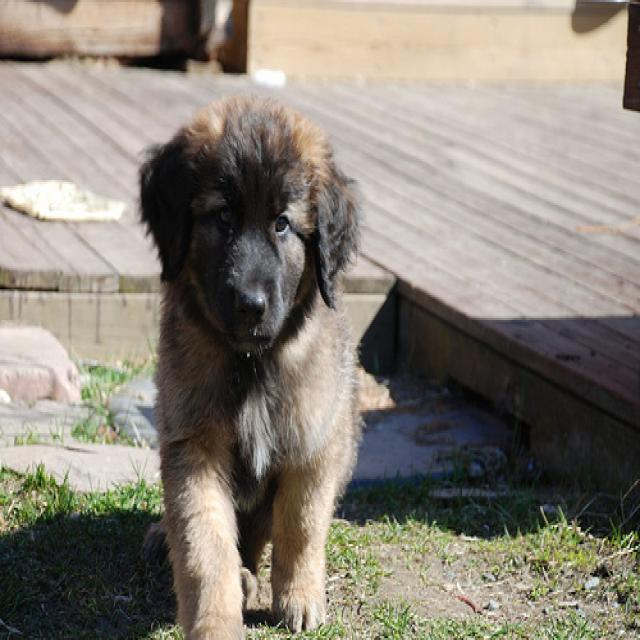dog-leonberger: (125, 75, 371, 636)
